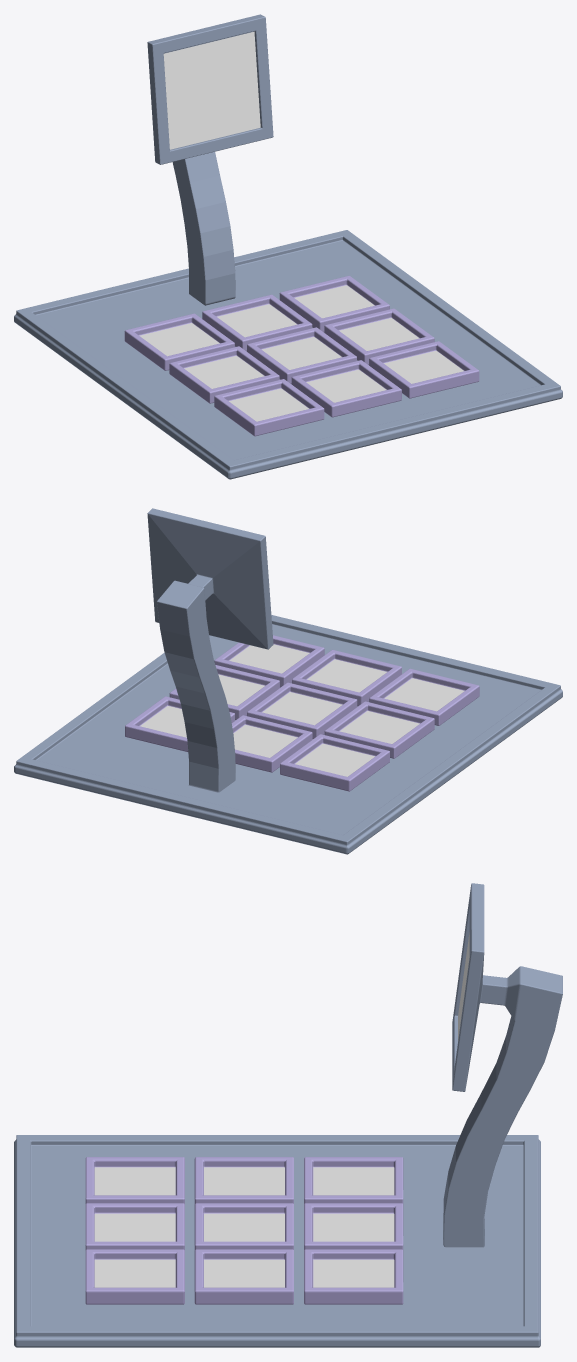
The model's file is ColourTask.fbx.
3 views of the same model, one above another, from view 1: azimuth 30°, elevation 25°; view 2: azimuth 150°, elevation 25°; view 3: azimuth 270°, elevation 25° (orthographic). The views are drawn at different scales.
Parts seen in each view (by area): view 1: Plane.005, Plane.004, Plane.003, Plane.010, Plane.009, Plane.012, Plane.014, Plane.013, Plane.015, Plane.008, Plane.011, Plane.007; view 2: Plane.005, Plane.004, Plane.008, Plane.009, Plane.011, Plane.007, Plane.012, Plane.015, Plane.010, Plane.014, Plane.013; view 3: Plane.005, Plane.004, Plane.010, Plane.012, Plane.007, Plane.009, Plane.014, Plane.015, Plane.008, Plane.011, Plane.013.
Part boxes in pixels (box(x1,y1,x2,y2)): Plane.005: box(14, 14, 562, 479); Plane.004: box(124, 275, 479, 436); Plane.003: box(163, 31, 260, 149); Plane.010: box(217, 304, 296, 337); Plane.009: box(139, 323, 219, 356); Plane.012: box(306, 369, 386, 402); Plane.014: box(294, 285, 374, 318); Plane.013: box(339, 318, 419, 350); Plane.015: box(384, 350, 463, 383); Plane.008: box(184, 356, 264, 388); Plane.011: box(262, 337, 341, 369); Plane.007: box(229, 388, 308, 421); Plane.005: box(14, 508, 562, 854); Plane.004: box(125, 635, 479, 791); Plane.008: box(340, 711, 419, 743); Plane.009: box(295, 743, 374, 776); Plane.011: box(262, 692, 342, 725); Plane.007: box(384, 678, 464, 711); Plane.012: box(307, 659, 386, 692); Plane.015: box(229, 644, 309, 673); Plane.010: box(233, 725, 297, 757); Plane.014: box(140, 706, 186, 737); Plane.013: box(218, 674, 264, 706); Plane.005: box(14, 883, 562, 1347); Plane.004: box(85, 1157, 403, 1304); Plane.010: box(313, 1213, 394, 1241); Plane.012: box(94, 1213, 175, 1241); Plane.007: box(94, 1167, 175, 1195); Plane.009: box(313, 1167, 394, 1195); Plane.014: box(313, 1259, 394, 1287); Plane.015: box(94, 1259, 175, 1287); Plane.008: box(204, 1167, 284, 1195); Plane.011: box(204, 1213, 284, 1241); Plane.013: box(204, 1259, 284, 1287).
Bounding box in the file's own units: 334 × 260 × 388.
